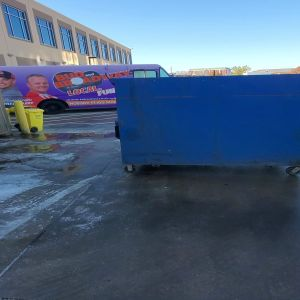Dumpster: (109, 76, 300, 180)
Person: (25, 73, 50, 98), (1, 69, 16, 92)
